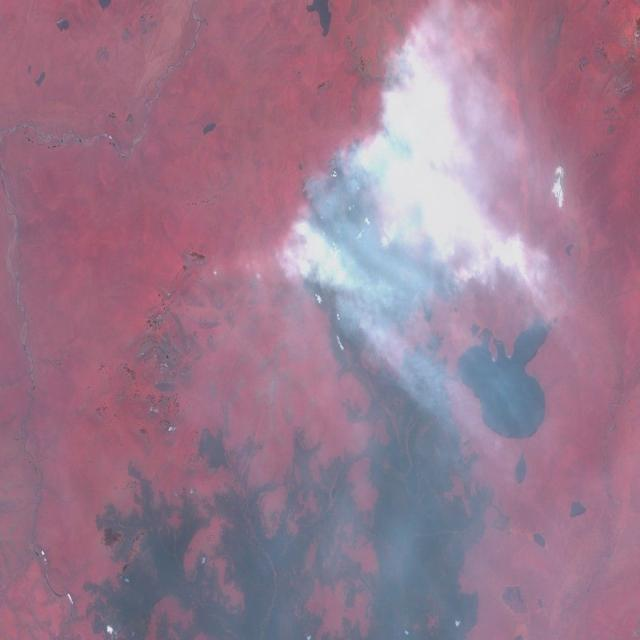fire: (292, 105, 461, 322)
